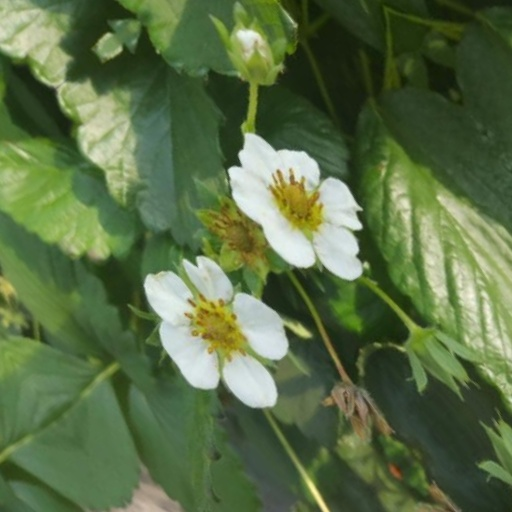Blossom Blight: (154, 242, 208, 330), (299, 197, 349, 278), (233, 191, 275, 262)
